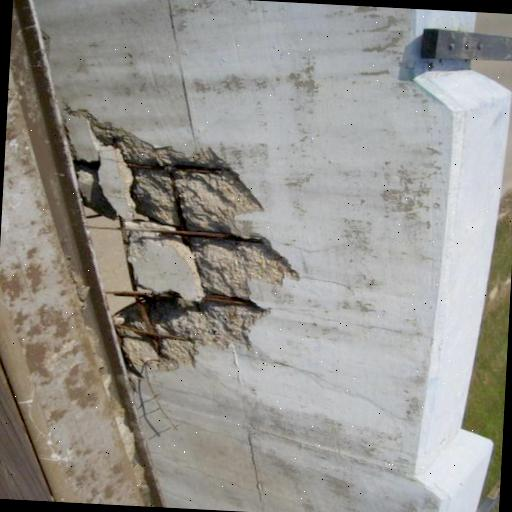spalling: (135, 143, 300, 379)
